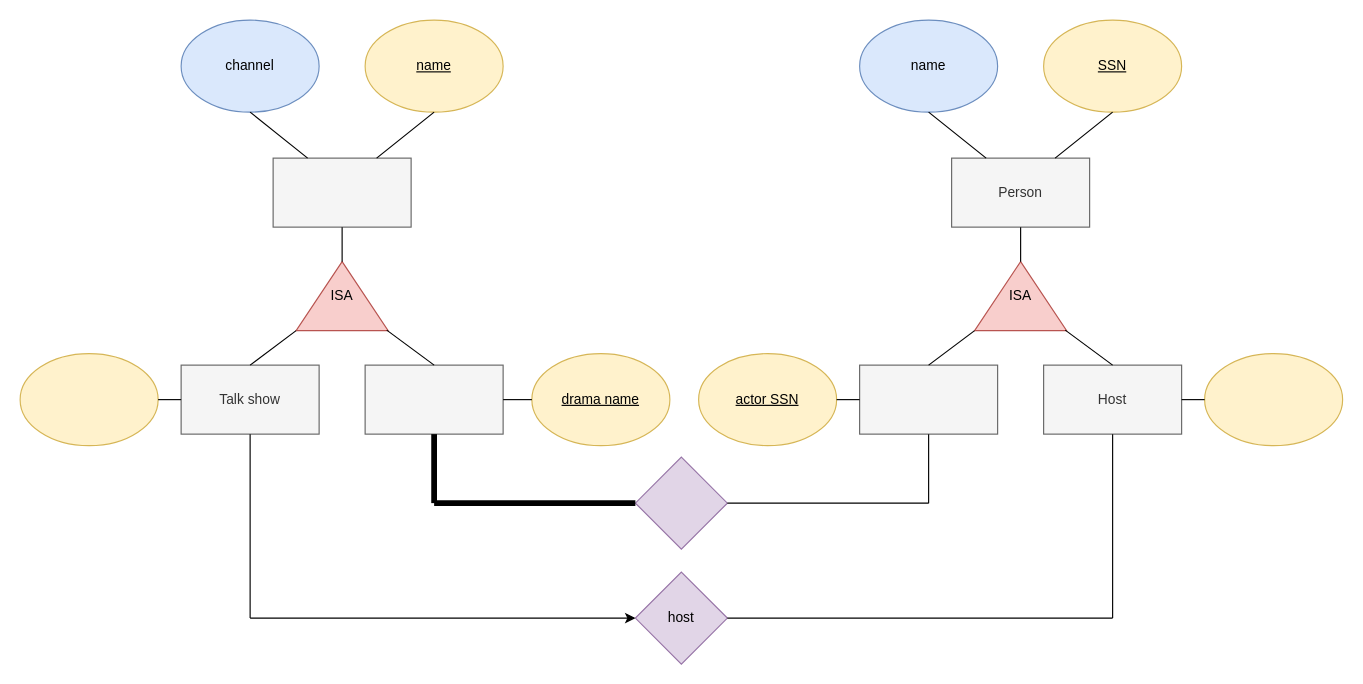
This 1363x684 diagram has some shape labels left out. The box of each missing label's shape, as (x1, y1, x2, y2) in pixels:
act: (634, 456, 727, 549)
Actor: (858, 364, 998, 434)
Drama: (364, 364, 503, 434)
host SSN: (1203, 352, 1343, 446)
talk name: (19, 352, 158, 446)
TV show: (272, 157, 411, 227)
